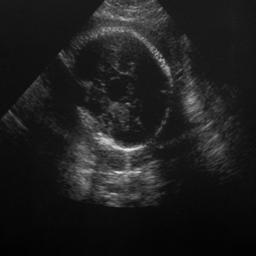abnormal: (68, 28, 176, 156)
